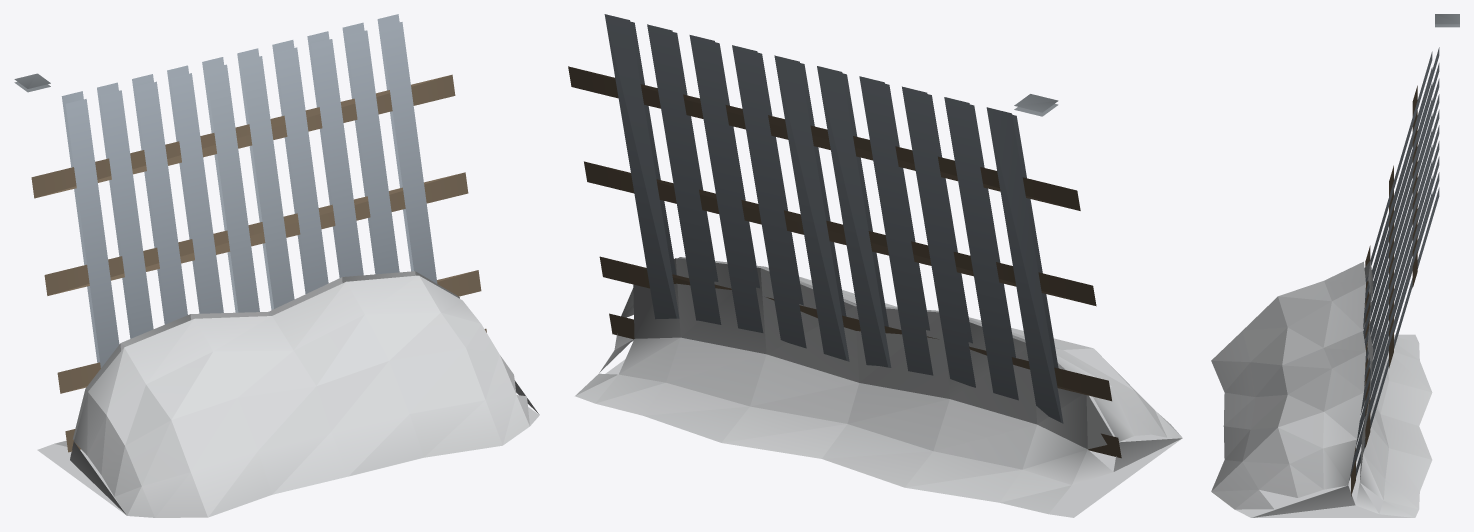
File: fence.lod.glb
The picture shows the model from 3 angles, left to right: view 1: azimuth 30°, elevation 25°; view 2: azimuth 150°, elevation 25°; view 3: azimuth 270°, elevation 25°; orthographic projection. The views are drawn at different scales.
Parts seen in each view (by area): view 1: fence.001; view 2: fence.001; view 3: fence.001.
Part boxes in pixels (x1=…): fence.001: x1=14, y1=14, x2=539, y2=517; fence.001: x1=568, y1=14, x2=1182, y2=517; fence.001: x1=1211, y1=14, x2=1459, y2=517.
Bounding box in the file's own units: 2 × 1.6 × 1.12.
